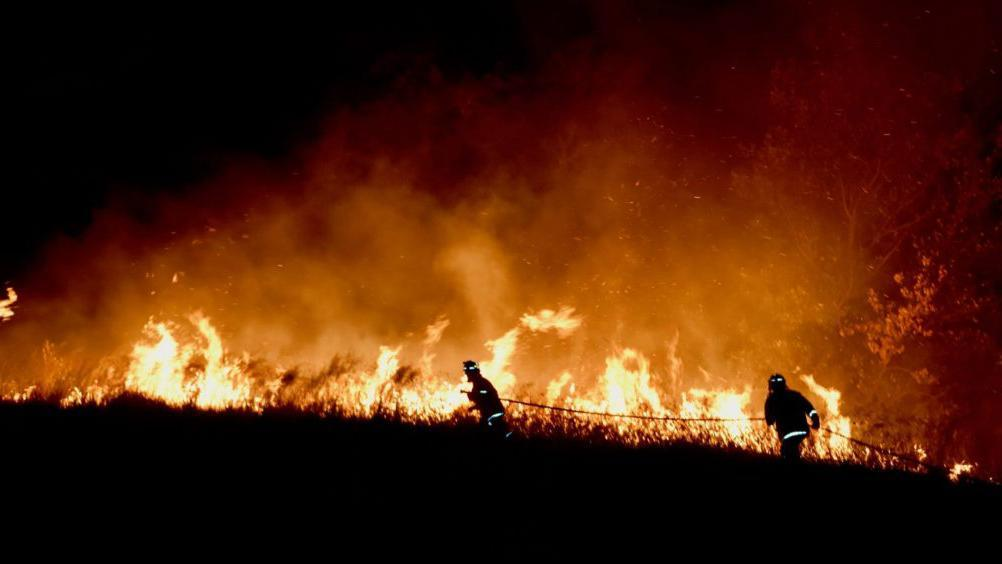Fire: (488, 304, 776, 445), (56, 287, 293, 408), (306, 286, 469, 418), (808, 369, 858, 460), (2, 283, 23, 324), (947, 458, 981, 483), (6, 382, 37, 403), (912, 444, 928, 471)
